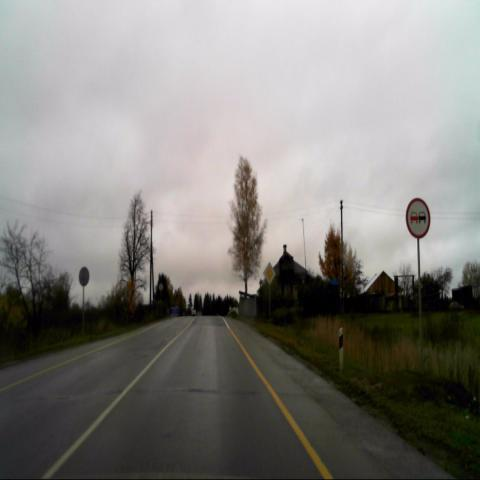2_1: (262, 260, 276, 285)
3_20: (406, 198, 430, 240)
